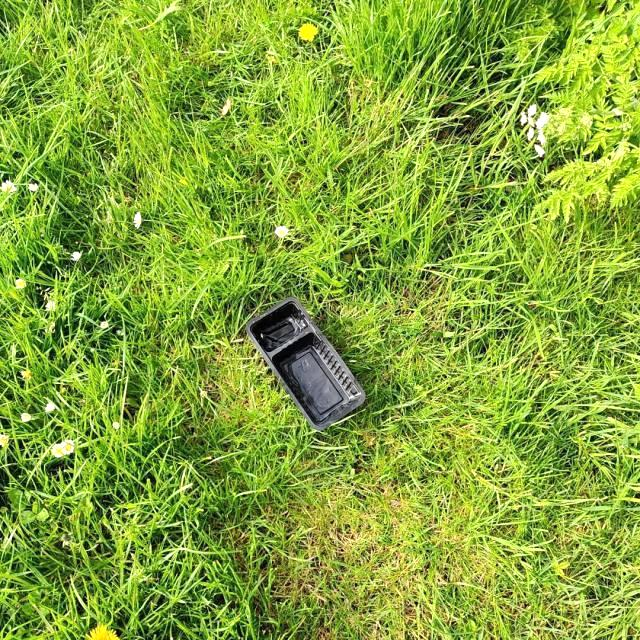Plastic: (242, 294, 366, 432)
